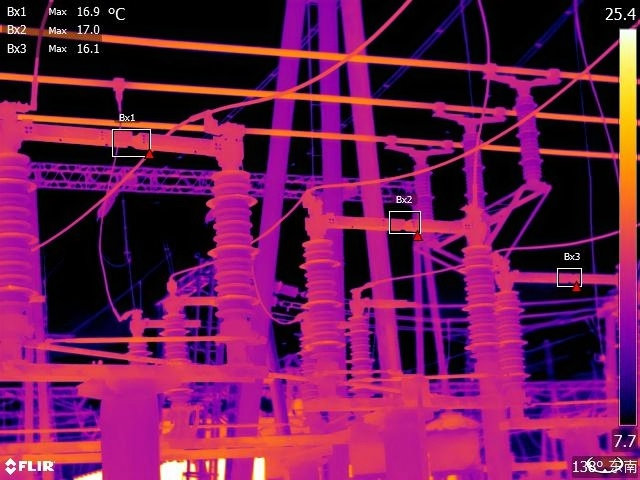clamp: (106, 71, 136, 111)
post insulator: (208, 167, 261, 322), (1, 147, 48, 303), (298, 231, 350, 350), (463, 239, 500, 364), (496, 288, 533, 401), (161, 311, 194, 404), (514, 93, 546, 180), (348, 312, 375, 394), (459, 129, 486, 200), (412, 161, 436, 218), (127, 334, 148, 370)
switch: (1, 108, 266, 169), (292, 192, 494, 250), (497, 254, 620, 297), (119, 305, 206, 333), (348, 288, 415, 316), (162, 280, 217, 309)
